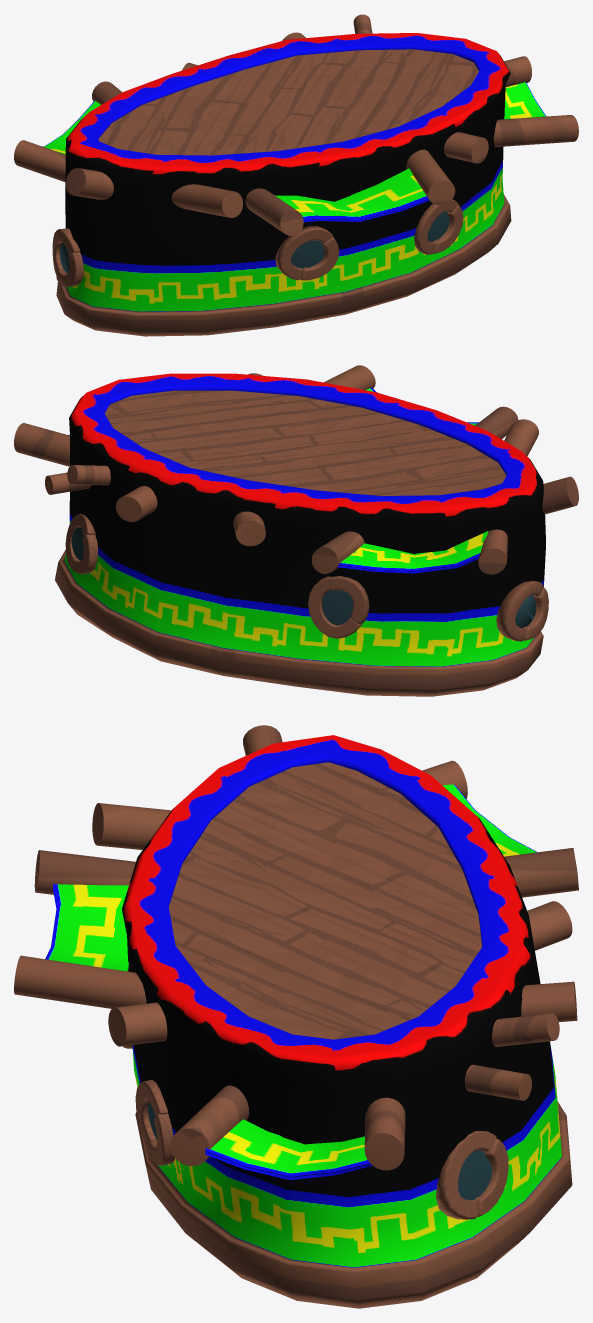
The model's file is aanggnag_home_01_no_door.fbx.
The picture shows the model from 3 angles, top to bottom: view 1: azimuth 30°, elevation 25°; view 2: azimuth 150°, elevation 25°; view 3: azimuth 270°, elevation 25°; orthographic projection. The views are drawn at different scales.
Visible parts, largest first — view 1: aanggnag_home_01_no_door; view 2: aanggnag_home_01_no_door; view 3: aanggnag_home_01_no_door.
Boxes of the visible parts, left/top/right/bottom form: aanggnag_home_01_no_door: left=14, top=14, right=578, bottom=336; aanggnag_home_01_no_door: left=14, top=365, right=578, bottom=696; aanggnag_home_01_no_door: left=14, top=725, right=578, bottom=1308.
Bounding box in the file's own units: 725 × 252 × 482.
Materials: 3 (2 with a texture image).
